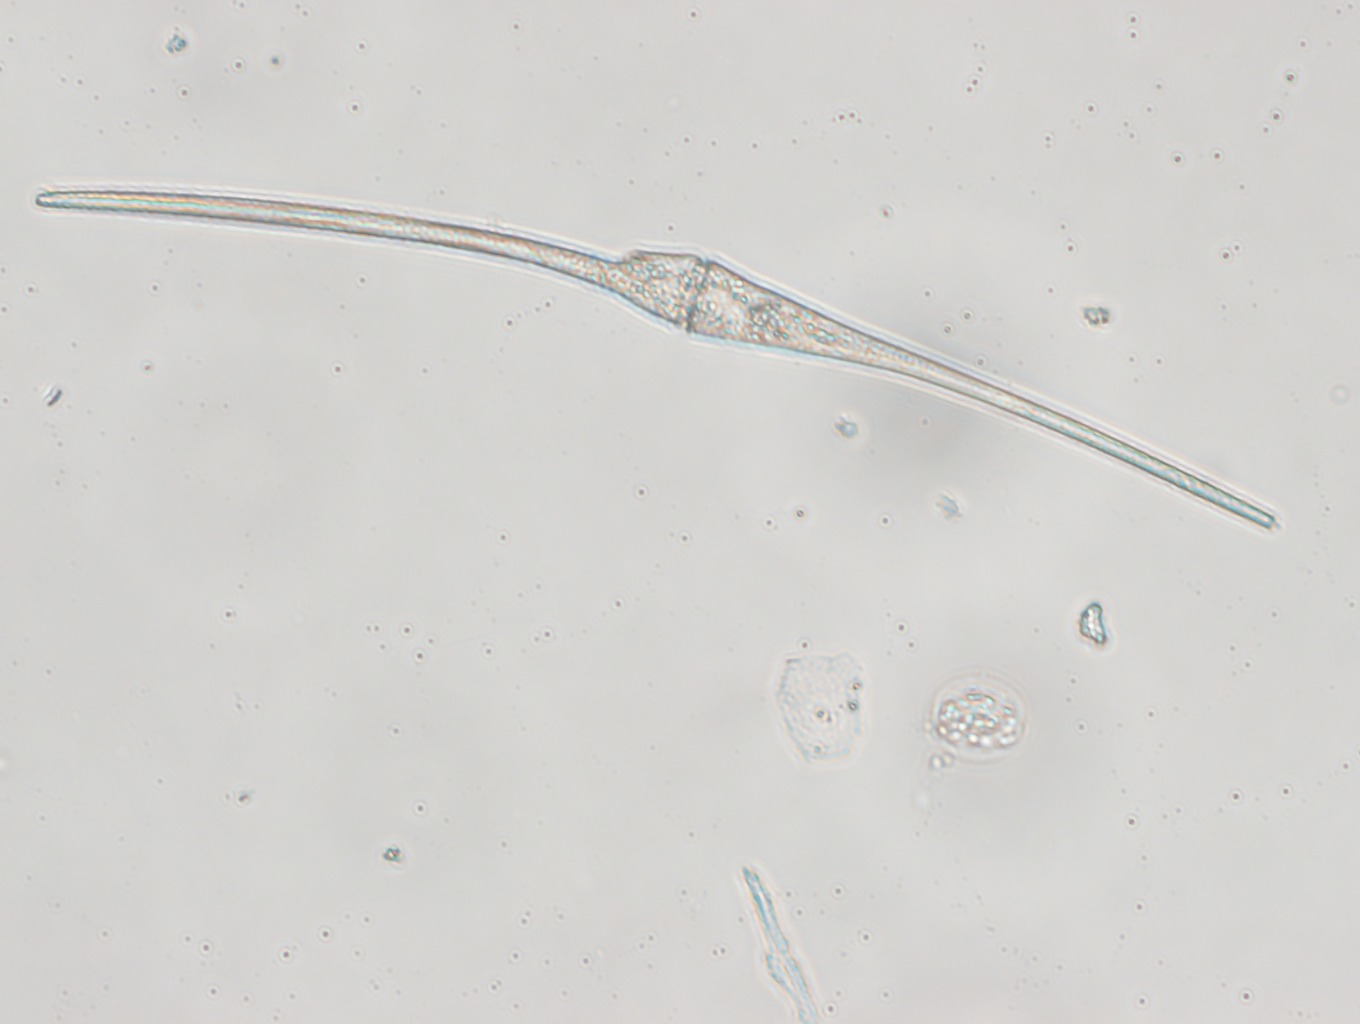ceratium fusus: (30, 188, 1282, 530)
